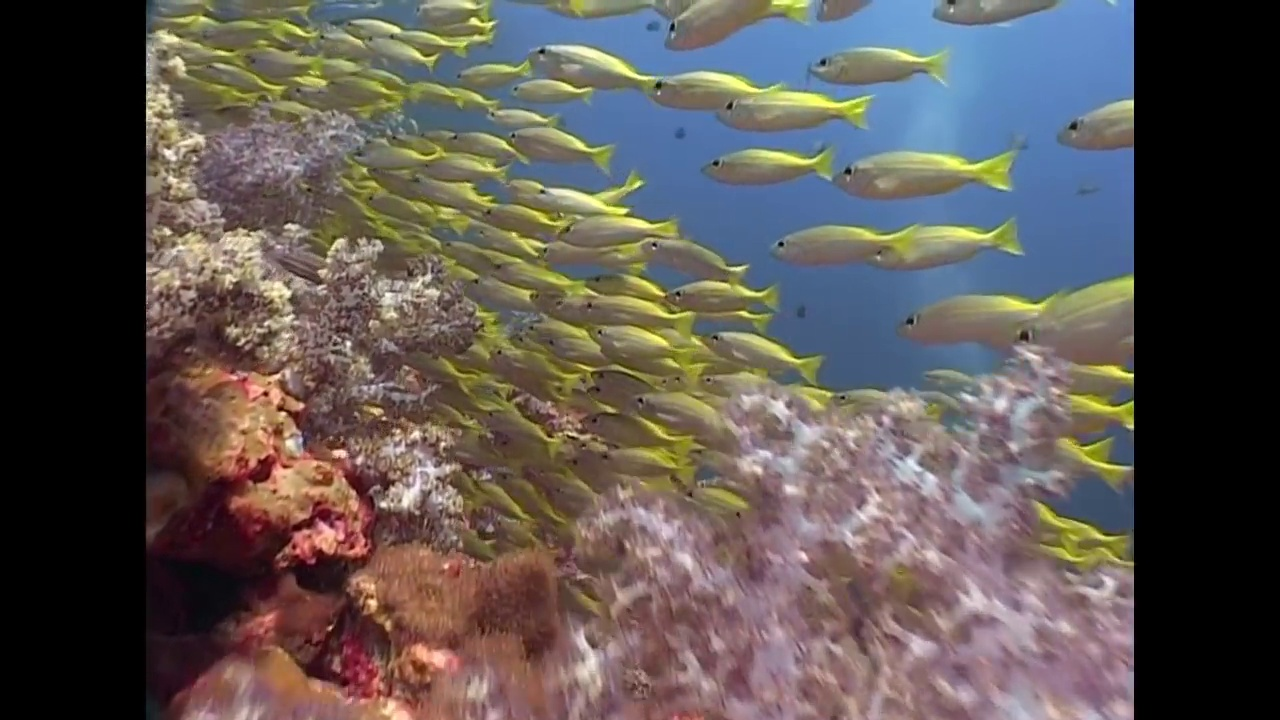big eye snapper: (995, 281, 1132, 362), (858, 210, 1022, 273), (892, 283, 1040, 348), (827, 146, 1011, 195), (755, 215, 919, 265), (527, 33, 653, 96), (710, 83, 873, 131), (662, 1, 799, 53), (704, 327, 818, 386), (504, 113, 617, 171), (644, 66, 782, 110), (685, 141, 833, 181), (639, 226, 742, 283), (804, 44, 951, 82), (471, 402, 560, 457), (582, 324, 704, 364), (505, 176, 622, 216), (634, 381, 729, 430), (199, 50, 279, 105), (484, 349, 577, 395), (395, 337, 470, 394), (1053, 97, 1132, 149), (661, 275, 780, 309), (551, 213, 680, 242), (577, 300, 691, 332), (448, 124, 523, 170), (362, 25, 434, 71), (602, 446, 689, 481), (513, 69, 595, 105), (536, 242, 636, 271), (316, 69, 400, 102), (582, 413, 661, 447), (457, 271, 527, 309), (469, 198, 549, 231), (509, 330, 582, 364), (420, 153, 502, 181), (582, 277, 661, 304), (346, 144, 421, 172), (435, 233, 491, 270), (590, 370, 657, 398), (318, 31, 367, 66), (520, 291, 572, 323), (453, 61, 525, 83), (584, 388, 638, 412)
